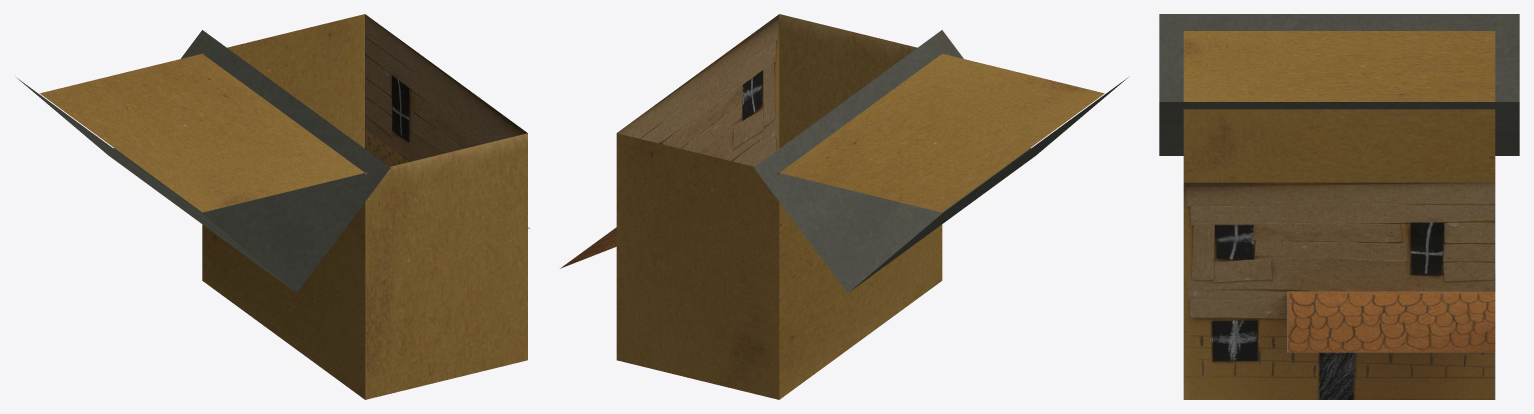
The model's file is ollie.gltf.
The picture shows the model from 3 angles, left to right: view 1: azimuth 30°, elevation 25°; view 2: azimuth 150°, elevation 25°; view 3: azimuth 270°, elevation 25°; orthographic projection. The views are drawn at different scales.
Visible parts, largest first — view 1: Cube, Cube.002, Cube.003, Cube.001; view 2: Cube, Cube.002, Cube.003, Cube.001; view 3: Cube, Cube.002, Cube.003, Cube.001.
Boxes of the visible parts, <box> form: Cube: <box>202,133,529,399</box>; Cube.002: <box>40,30,390,292</box>; Cube.003: <box>203,14,527,166</box>; Cube.001: <box>16,77,294,291</box>; Cube: <box>560,133,942,399</box>; Cube.002: <box>754,30,1104,292</box>; Cube.003: <box>617,14,941,166</box>; Cube.001: <box>850,76,1129,291</box>; Cube: <box>1183,182,1495,399</box>; Cube.002: <box>1159,14,1519,101</box>; Cube.003: <box>1183,109,1495,182</box>; Cube.001: <box>1159,102,1519,155</box>.
Size of the model in its own units: 18.22 by 10.5 by 15.04.
1 material, 1 textured.
